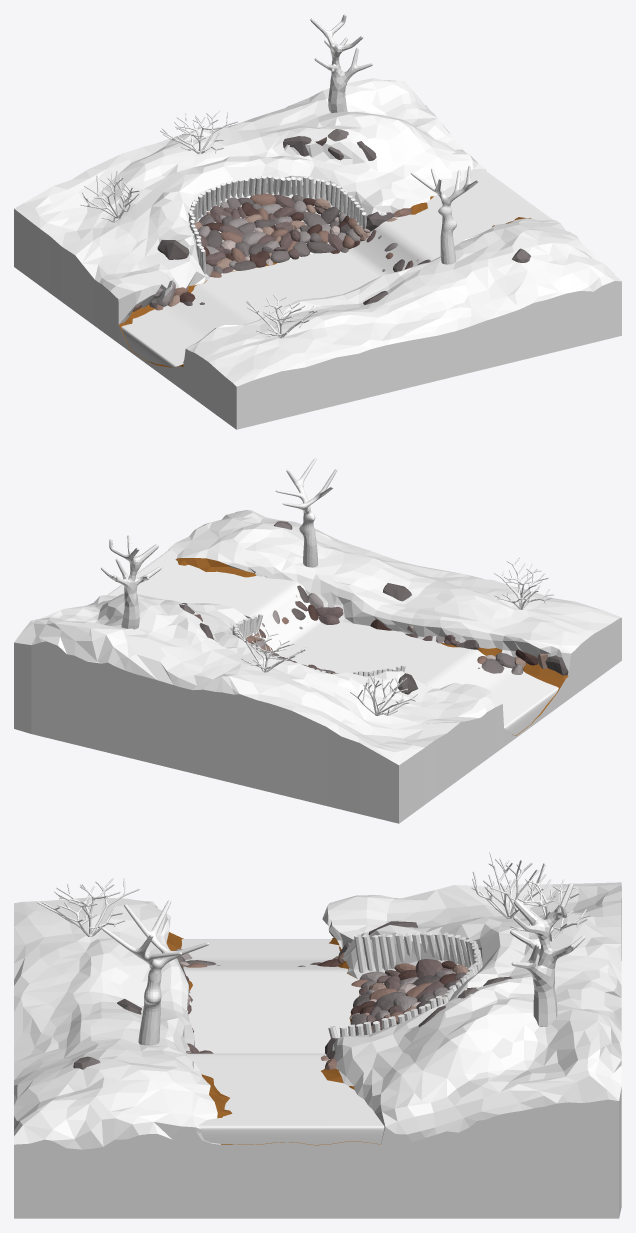
Rendered from forest-scene.gltf.
The picture shows the model from 3 angles, top to bottom: view 1: azimuth 30°, elevation 25°; view 2: azimuth 150°, elevation 25°; view 3: azimuth 270°, elevation 25°; orthographic projection. The views are drawn at different scales.
Parts seen in each view (by area): view 1: Ground, Water, wooden, Tree_2, Tree_1, Bush_2, Bush1, Bush_2.001; view 2: Ground, Water, Tree_2, Tree_1, Bush_2.001, Bush1, wooden, Bush_2; view 3: Ground, Water, wooden, Tree_2, Tree_1, Bush1, Bush_2.001, Bush_2.
Part boxes in pixels (x1=…): Ground: x1=14, y1=78, x2=621, y2=429; Water: x1=121, y1=170, x2=552, y2=367; wooden: x1=188, y1=175, x2=366, y2=274; Tree_2: x1=310, y1=14, x2=372, y2=112; Tree_1: x1=410, y1=165, x2=478, y2=264; Bush_2: x1=160, y1=110, x2=237, y2=153; Bush1: x1=80, y1=170, x2=139, y2=222; Bush_2.001: x1=246, y1=294, x2=317, y2=338; Ground: x1=14, y1=510, x2=621, y2=823; Water: x1=107, y1=549, x2=558, y2=735; Tree_2: x1=101, y1=535, x2=161, y2=629; Tree_1: x1=275, y1=458, x2=337, y2=567; Bush_2.001: x1=494, y1=557, x2=554, y2=609; Bush1: x1=350, y1=672, x2=417, y2=715; wooden: x1=232, y1=614, x2=405, y2=676; Bush_2: x1=237, y1=629, x2=306, y2=672; Ground: x1=14, y1=882, x2=621, y2=1218; Water: x1=181, y1=939, x2=384, y2=1144; wooden: x1=328, y1=931, x2=482, y2=1038; Tree_2: x1=510, y1=883, x2=585, y2=1026; Tree_1: x1=101, y1=900, x2=209, y2=1045; Bush1: x1=471, y1=852, x2=545, y2=918; Bush_2.001: x1=36, y1=878, x2=139, y2=936; Bush_2: x1=510, y1=874, x2=591, y2=941.
Size of what is drawn, in the model's own units: 6 by 2.92 by 6.
